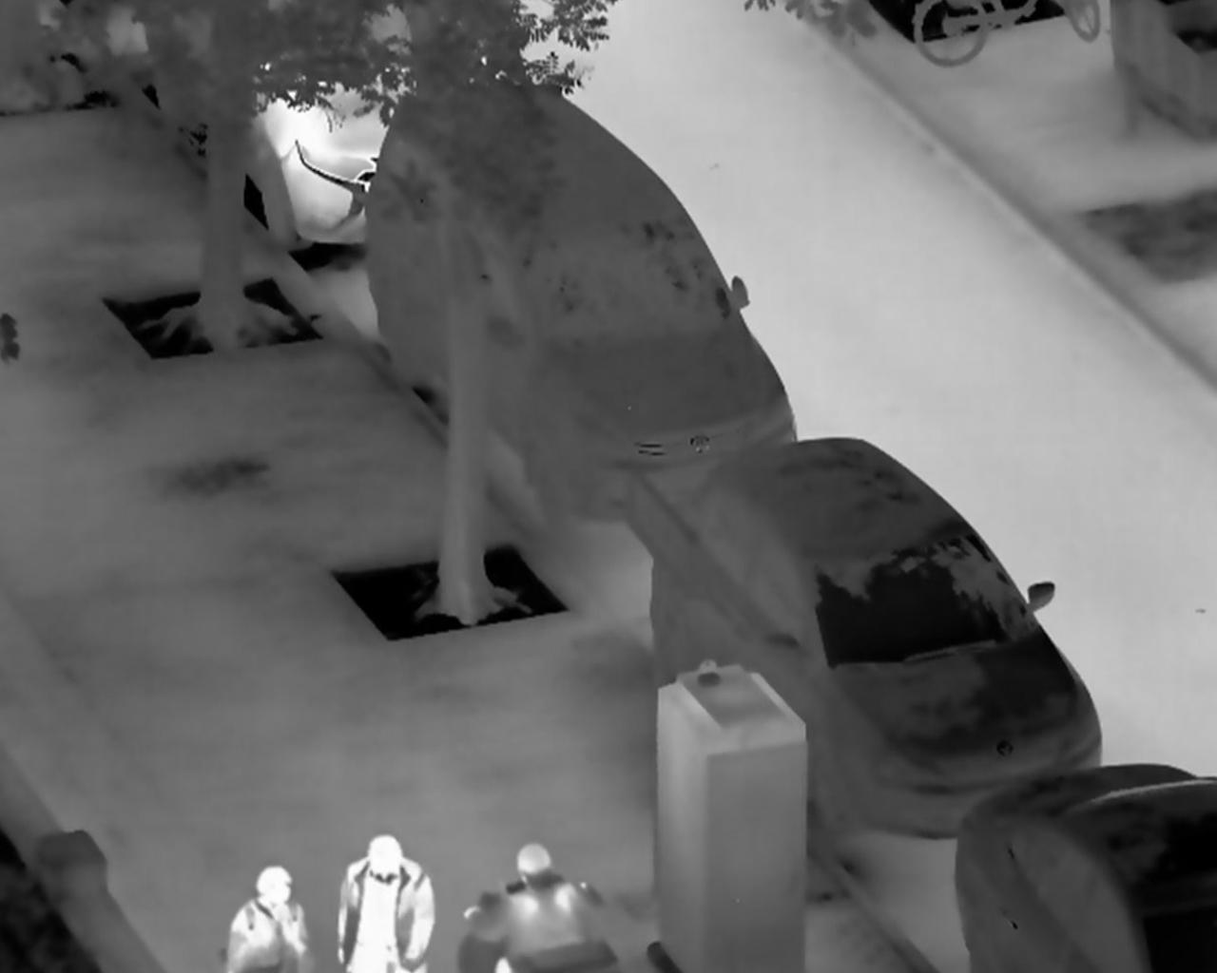person: (463, 839, 613, 967), (338, 835, 437, 973), (225, 864, 313, 973)
